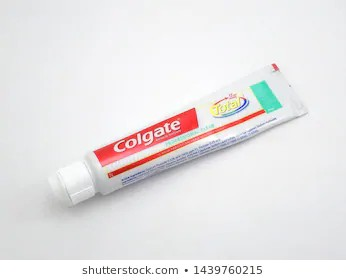colgate-total-150gm: (48, 44, 309, 213)
